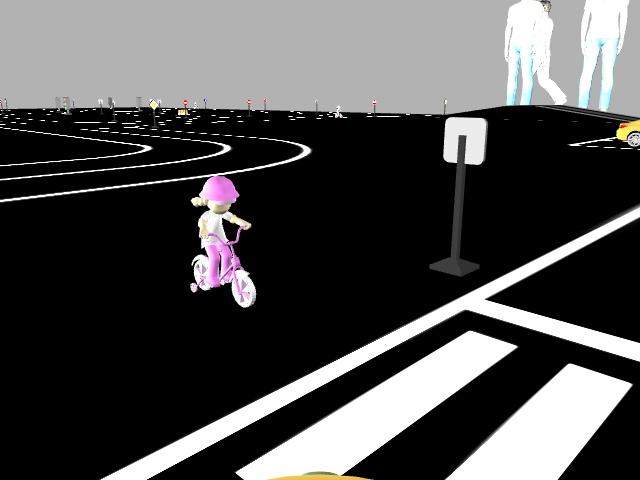Pedestrian: (187, 174, 260, 310)
